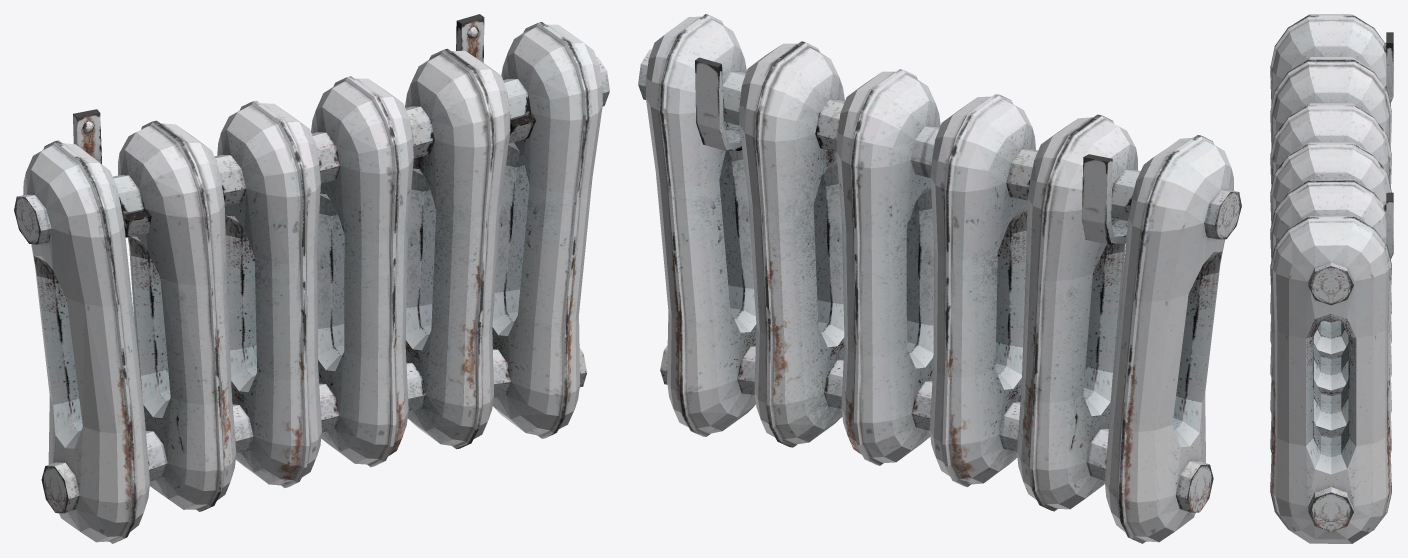
3 renders of one model, left to right at view 1: azimuth 30°, elevation 25°; view 2: azimuth 150°, elevation 25°; view 3: azimuth 270°, elevation 25°, orthographic. The views are drawn at different scales.
Parts seen in each view (by area): view 1: radiator.mo; view 2: radiator.mo; view 3: radiator.mo.
Part boxes in pixels (x1,y1,x2,y2): radiator.mo: (14,14,609,543); radiator.mo: (638,14,1241,543); radiator.mo: (1270,14,1393,543).
Size of the model in its own units: 81.31 by 53.09 by 17.81.
Materials: 1 (1 with a texture image).
